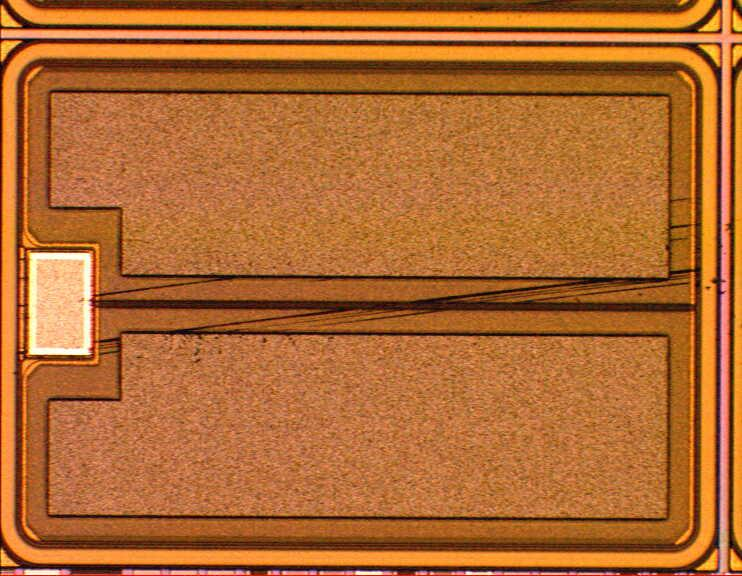SCRATCH: (17, 203, 742, 390)
